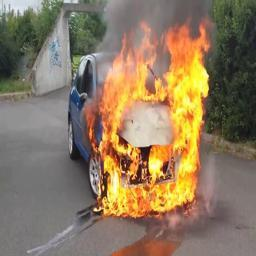fire: (84, 14, 210, 217)
